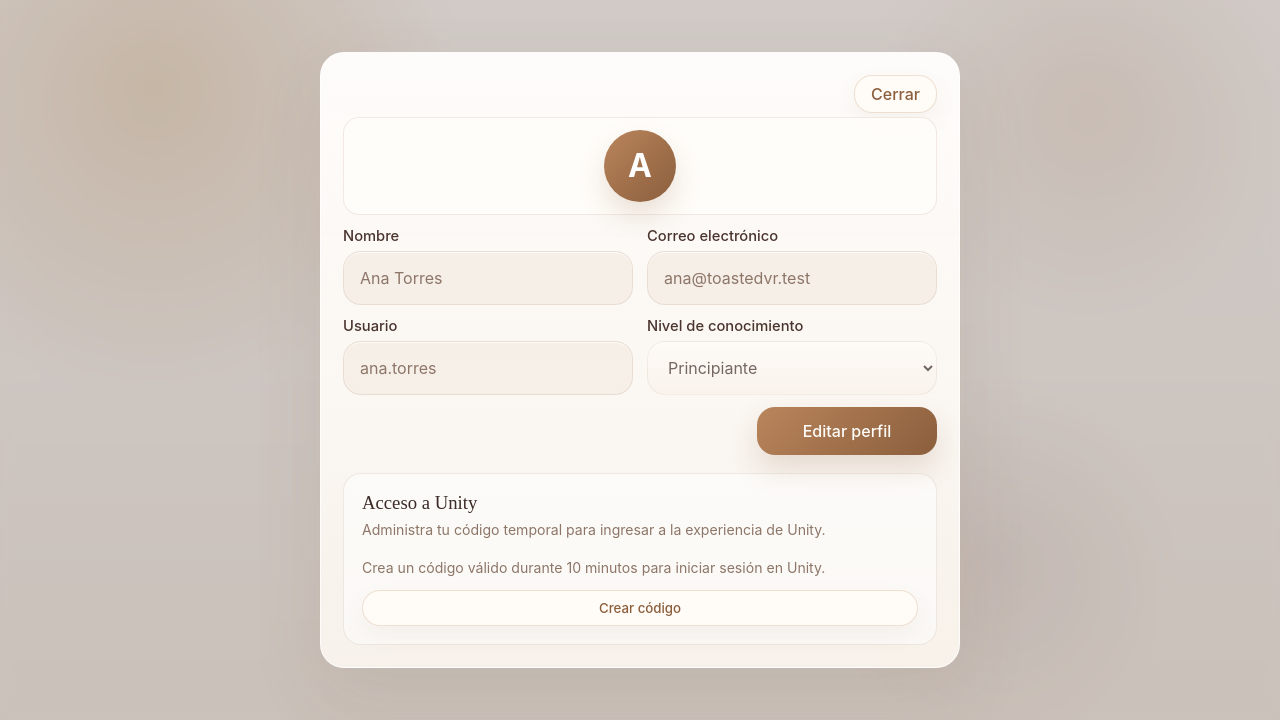
Scenario: creates and copies a Unity access code after password confirmation
This screenshot has width=1280, height=720.
Click the button "Crear código".
click(640, 608)  # box [362,590,918,626]
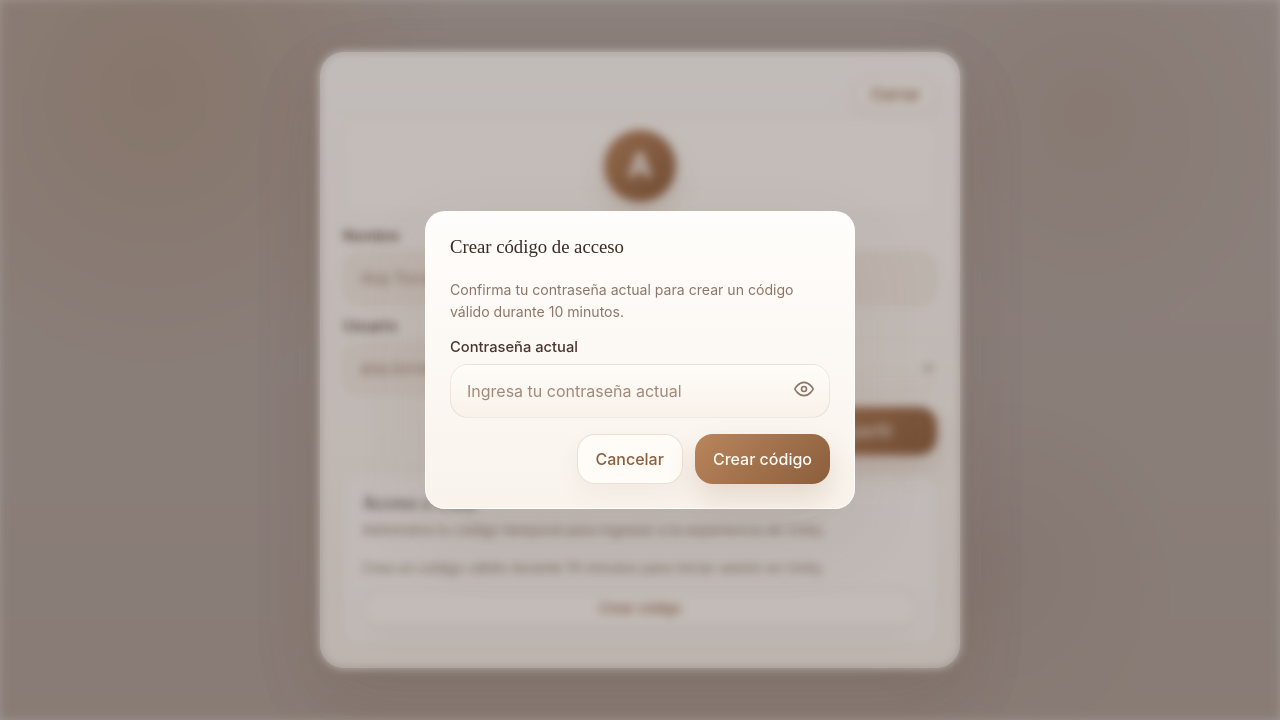
Type "Password123!" into the password field labelled "Contraseña actual".
click(640, 391); type("Password123!")  # box [450,364,830,418]
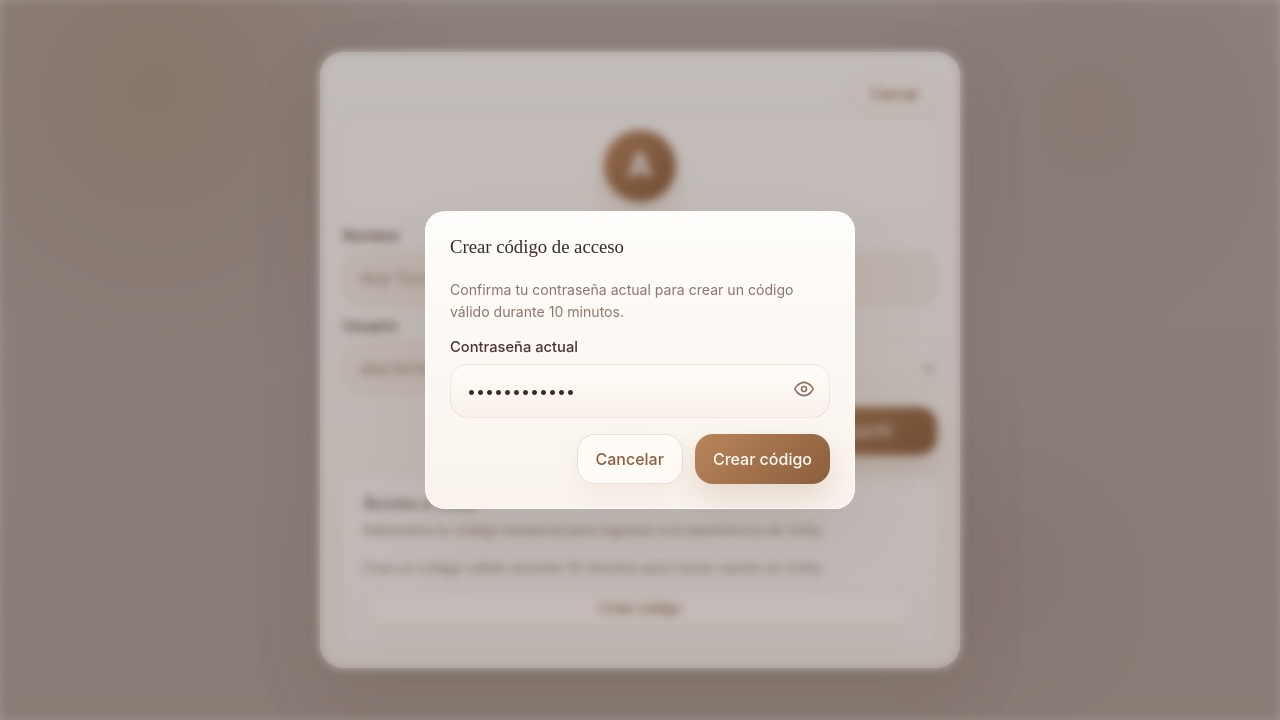
Click the button "Crear código".
click(762, 459)  # box [695,434,830,484]
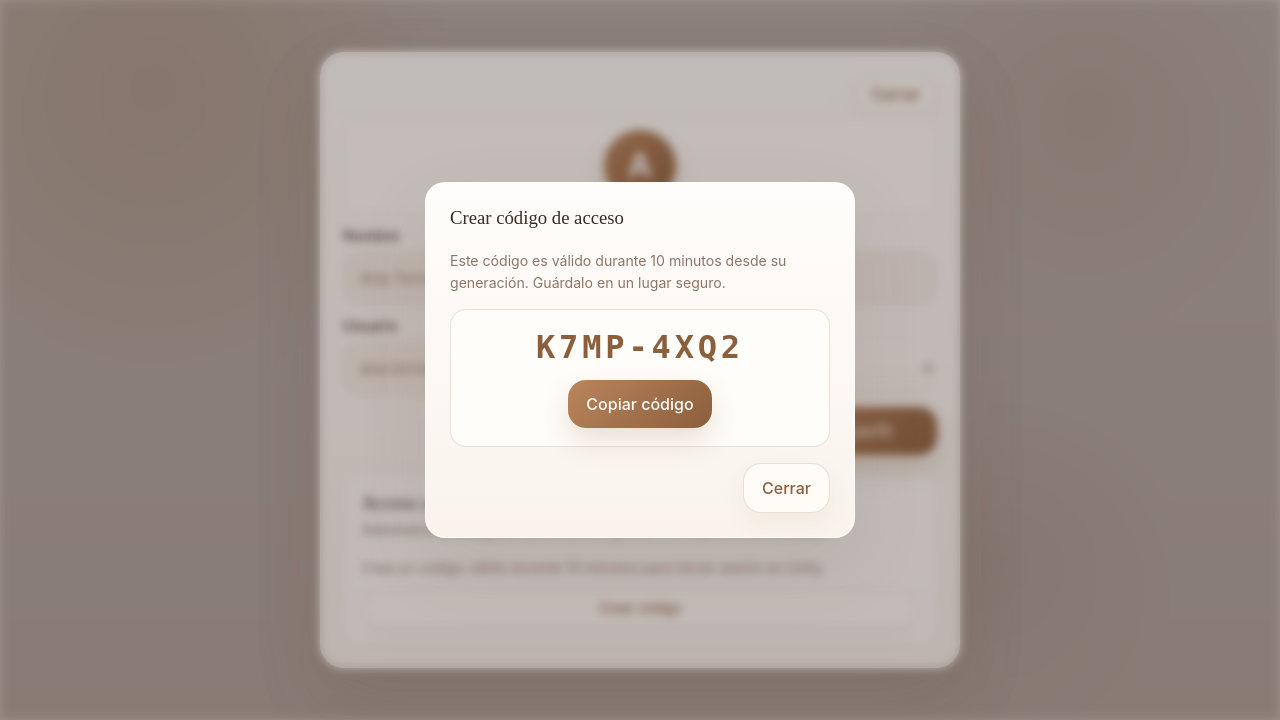
Result: the text "K7MP-4XQ2" is shown at [536,328,744,366]
Click the button "Copiar código".
click(640, 404)  # box [568,380,712,428]
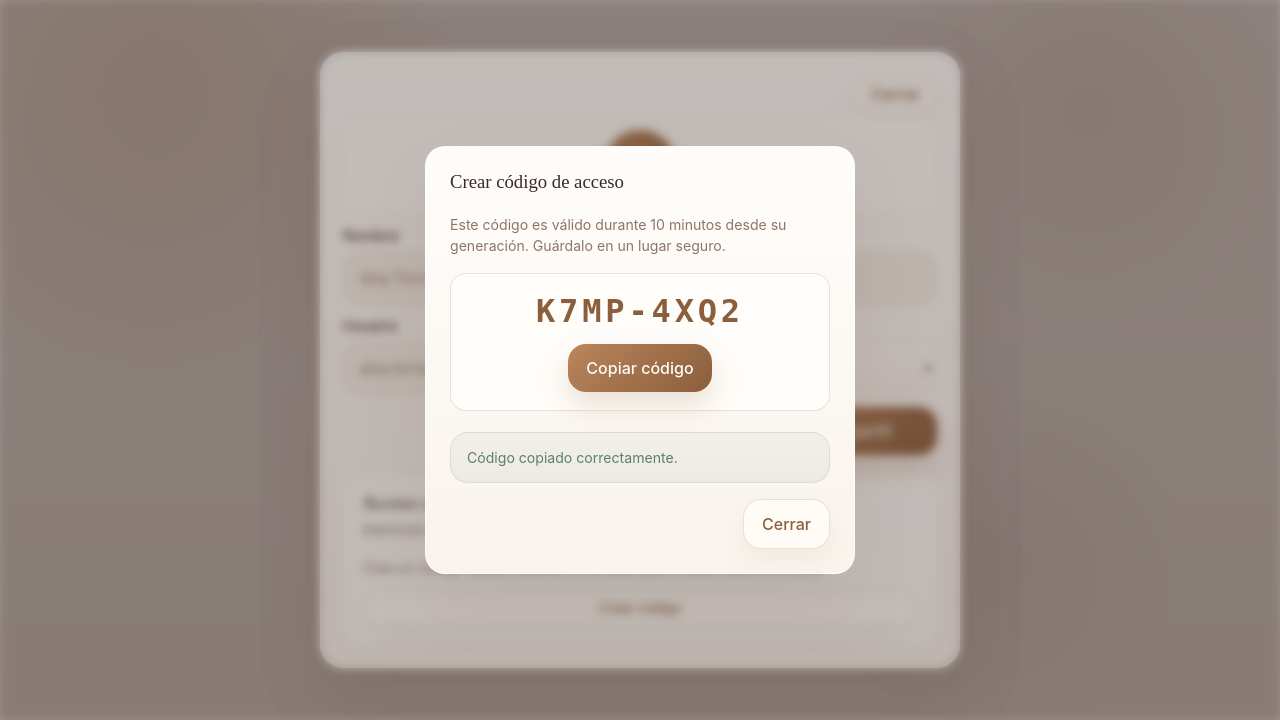
Result: the text "Código copiado correctamente." is shown at [450,432,830,483]
